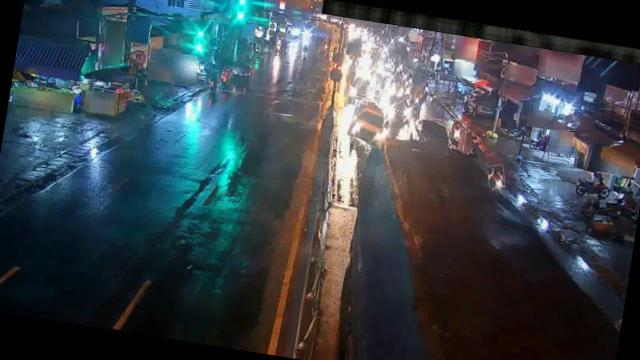Bike: (569, 169, 620, 203), (446, 120, 468, 154), (487, 162, 508, 188), (220, 65, 232, 85), (209, 70, 220, 90)
Car: (348, 99, 395, 148), (412, 116, 453, 156)
